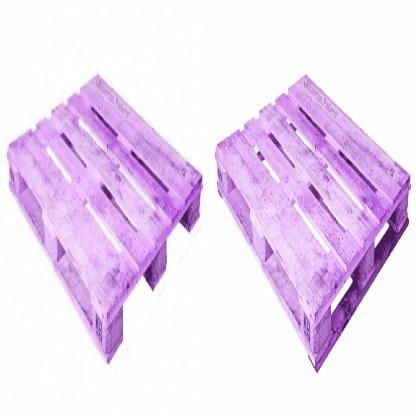BoxFace: (215, 70, 413, 379), (4, 70, 204, 367)
